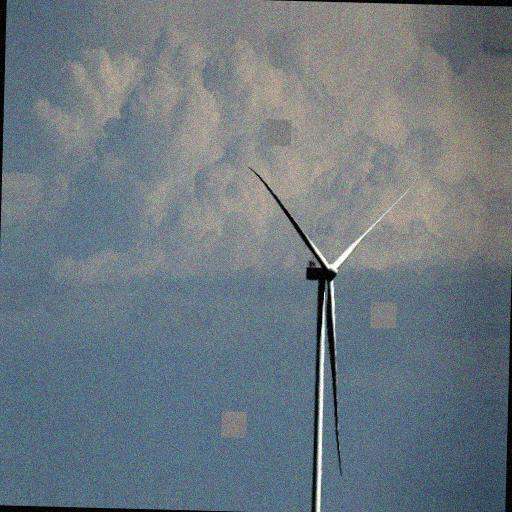wind turbine: (246, 165, 419, 509)
